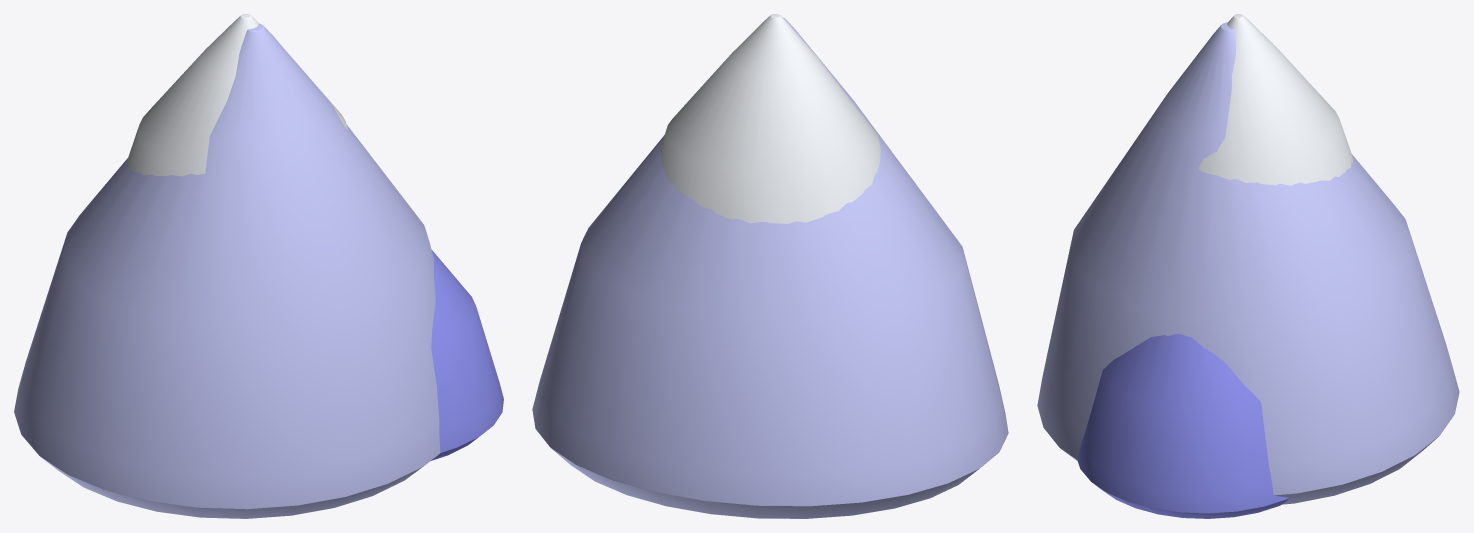
Rendered from SnowPeakB.glb.
3 renders of one model, left to right at view 1: azimuth 30°, elevation 25°; view 2: azimuth 150°, elevation 25°; view 3: azimuth 270°, elevation 25°, orthographic. The views are drawn at different scales.
Parts seen in each view (by area): view 1: SnowPeakB; view 2: SnowPeakB; view 3: SnowPeakB.
Part boxes in pixels (x1,y1,x2,y2): SnowPeakB: (14, 14, 503, 518); SnowPeakB: (532, 14, 1008, 518); SnowPeakB: (1037, 14, 1459, 518).
Size of the model in its own units: 87.92 by 83.24 by 77.47.
Materials: 1 (1 with a texture image).
